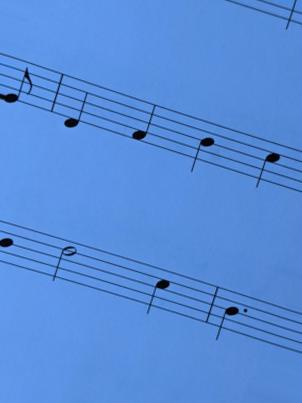B: (186, 109, 216, 178), (212, 280, 240, 350)
D: (60, 68, 90, 133)
F: (127, 88, 160, 147)
HC: (142, 257, 173, 320), (254, 133, 282, 195)
